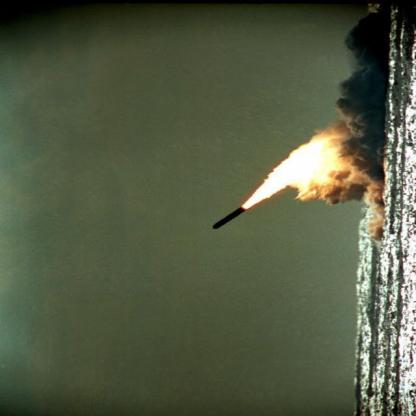MIL_TBM: (209, 204, 250, 235)
